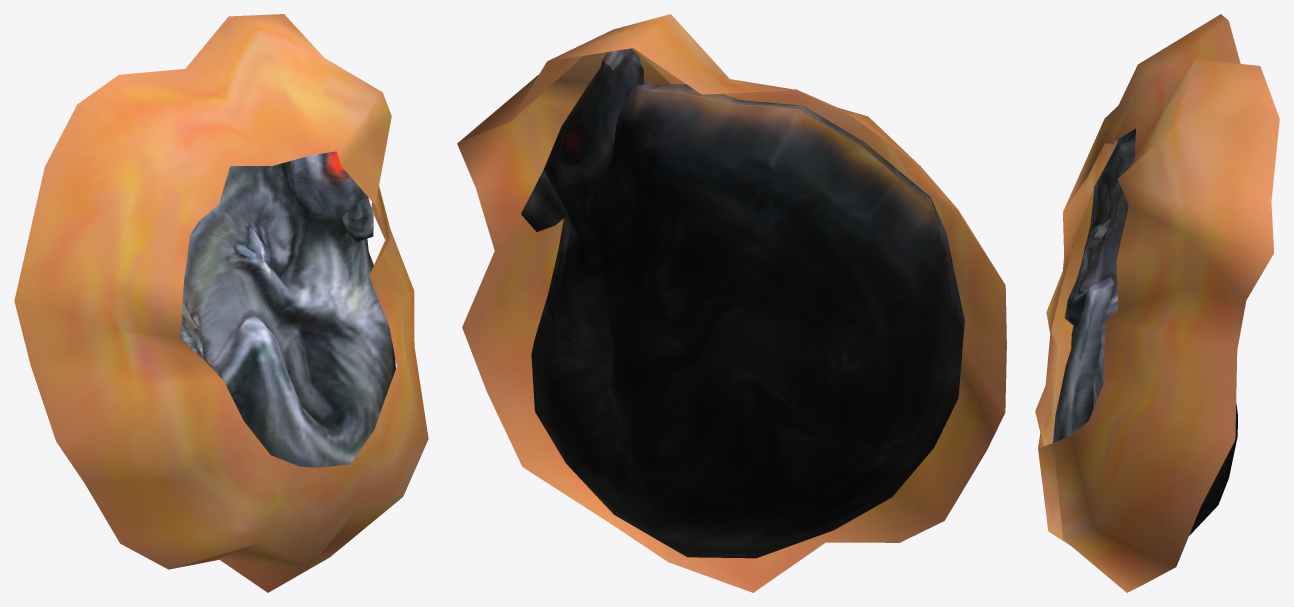
File: Little Fossil.fbx
The picture shows the model from 3 angles, left to right: view 1: azimuth 30°, elevation 25°; view 2: azimuth 150°, elevation 25°; view 3: azimuth 270°, elevation 25°; orthographic projection. The views are drawn at different scales.
Visible parts, largest first — view 1: Effects, Body; view 2: Body, Effects; view 3: Effects, Body.
Part boxes in pixels (x1,y1,x2,y2): Effects: [14, 14, 428, 592]; Body: [180, 151, 395, 467]; Body: [521, 48, 964, 558]; Effects: [457, 14, 1006, 592]; Effects: [1035, 14, 1279, 592]; Body: [1053, 128, 1237, 535].
Bounding box in the file's own units: 1048 × 1221 × 510.
2 materials, 2 textured.
